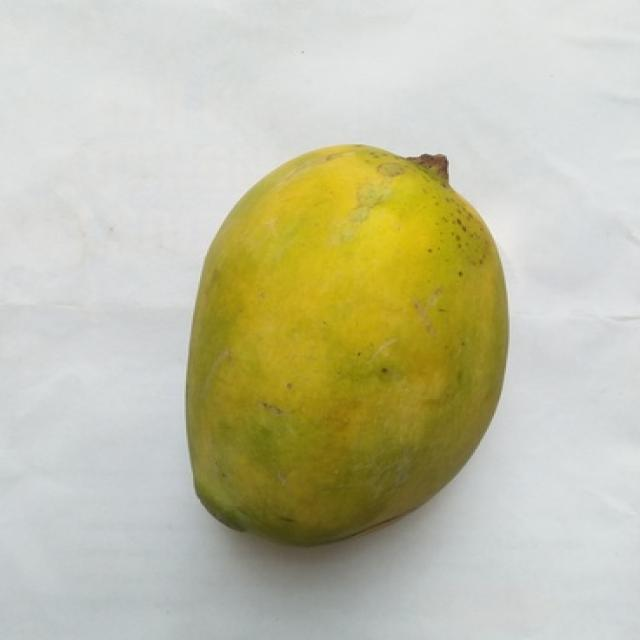Mango: (186, 145, 506, 543)
